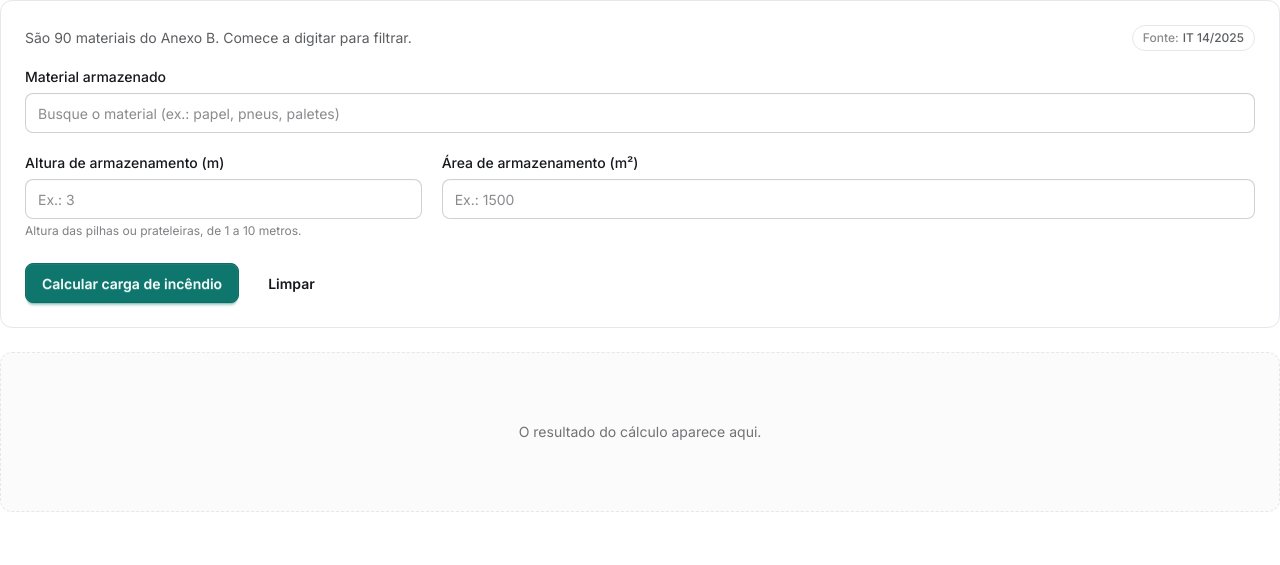
Test case: StorageCalculator › should ask for a material before calculating
The image size is (1280, 565).
Click the button "Calcular carga de incêndio".
click(132, 283)  # box [25, 263, 239, 303]
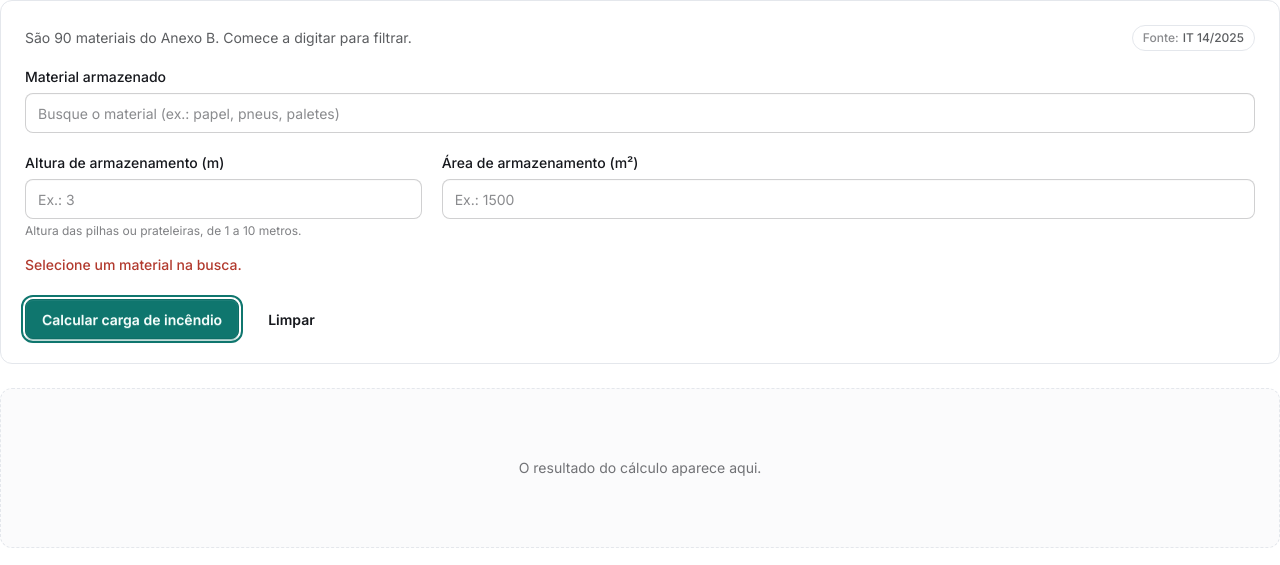
Expected: the message reads "Selecione um material na busca.", [25, 256, 242, 273]
